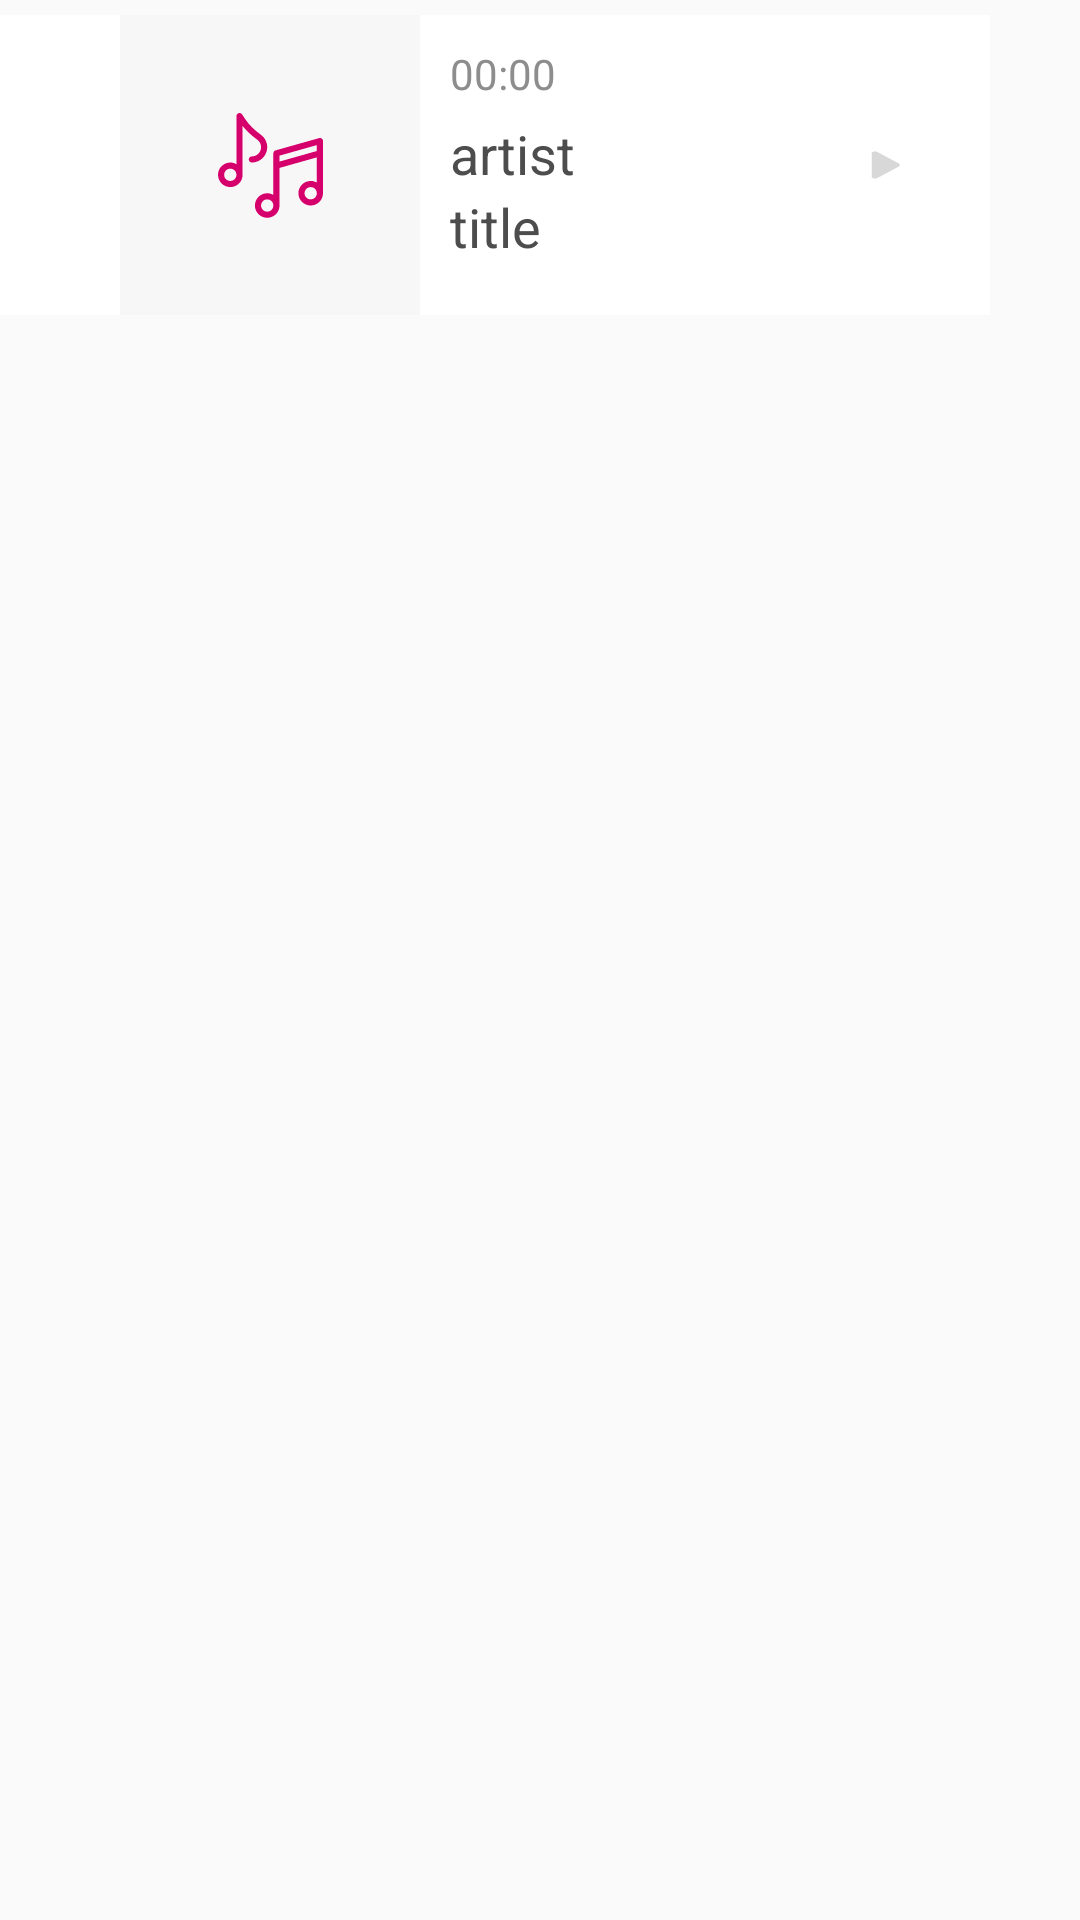

Icons on this 1080 x 1920 Android screen, each with its box as [x1=x1, y1=y1, x2=x2, y2=y2]:
music note: [x1=218, y1=113, x2=323, y2=218]
